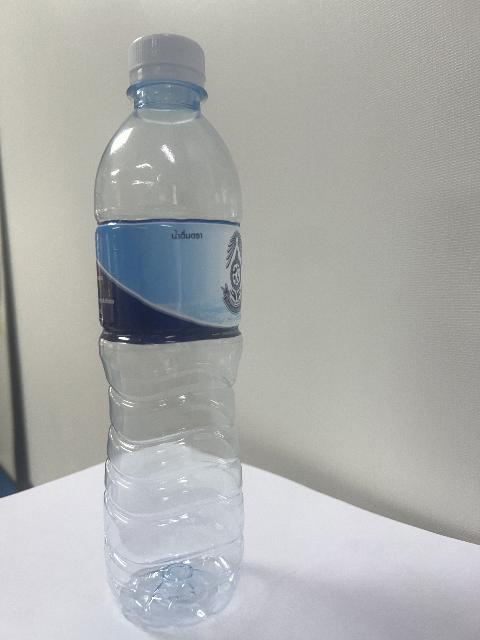bottle: (95, 35, 243, 629)
